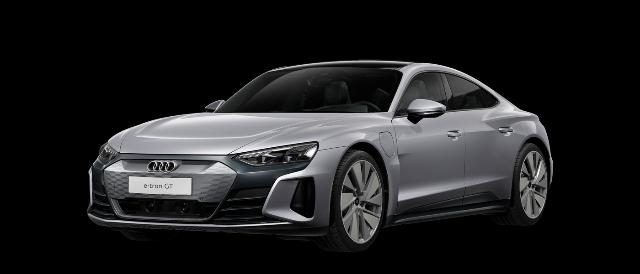audi: (86, 59, 554, 253)
